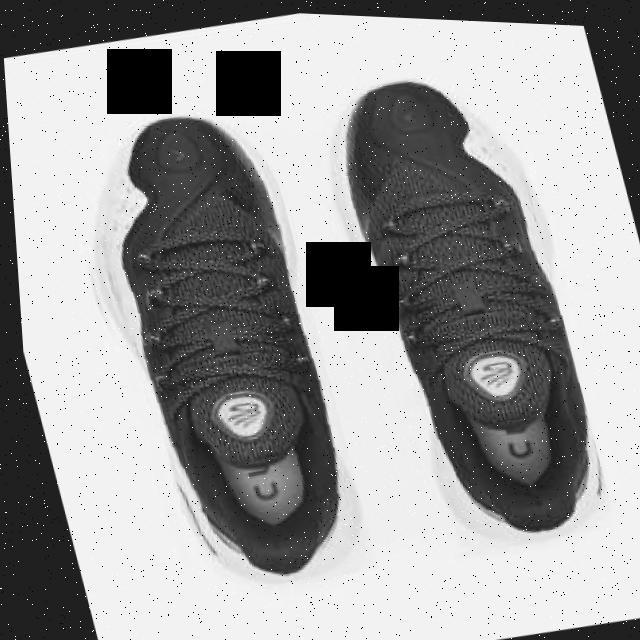shoe: (44, 88, 373, 607), (296, 54, 612, 562)
